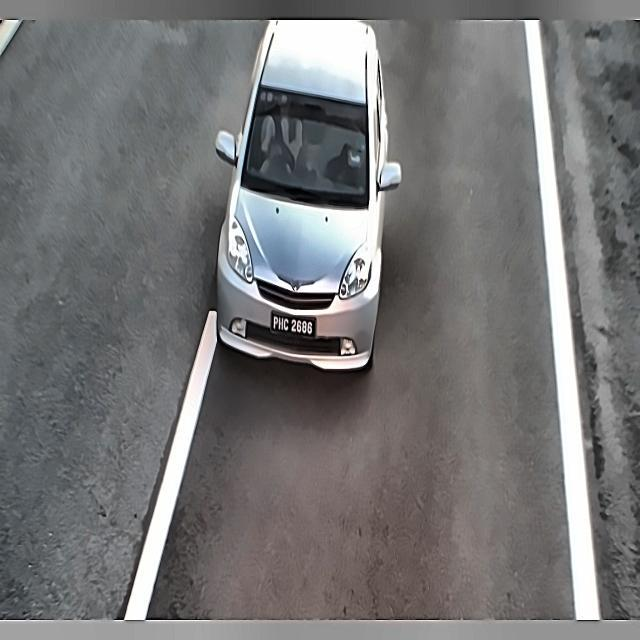car: (268, 308, 320, 343)
